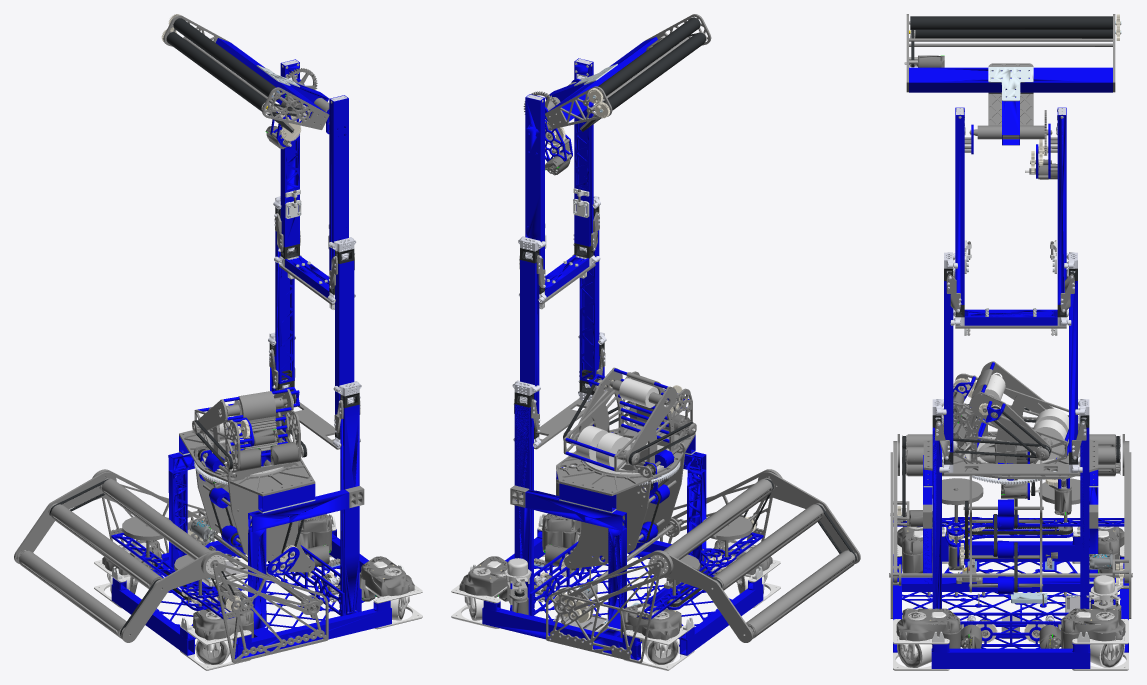
File: hero-poofs-254.glb
3 renders of one model, left to right at view 1: azimuth 30°, elevation 25°; view 2: azimuth 150°, elevation 25°; view 3: azimuth 270°, elevation 25°, orthographic. The views are drawn at different scales.
Parts seen in each view (by area): view 1: frame, intake, turret, stage3, stage2, claw, hood, claw-base; view 2: frame, intake, turret, stage3, stage2, claw, claw-base, hood; view 3: frame, claw, turret, stage3, intake, stage2, claw-base, hood, pad.
Part boxes in pixels (left/top/right/bottom): frame: left=94, top=356, right=422, bottom=670; intake: left=14, top=469, right=328, bottom=663; turret: left=179, top=386, right=315, bottom=513; stage3: left=273, top=59, right=356, bottom=309; stage2: left=268, top=231, right=361, bottom=449; claw: left=161, top=14, right=329, bottom=129; hood: left=198, top=391, right=277, bottom=451; claw-base: left=265, top=68, right=329, bottom=149; frame: left=451, top=356, right=780, bottom=670; intake: left=546, top=469, right=860, bottom=663; turret: left=556, top=367, right=696, bottom=513; stage3: left=518, top=58, right=600, bottom=309; stage2: left=512, top=230, right=606, bottom=449; claw: left=545, top=14, right=711, bottom=128; claw-base: left=523, top=78, right=580, bottom=175; hood: left=625, top=372, right=677, bottom=464; frame: left=893, top=424, right=1128, bottom=670; claw: left=904, top=14, right=1121, bottom=145; turret: left=923, top=362, right=1098, bottom=515; stage3: left=944, top=107, right=1077, bottom=335; intake: left=889, top=434, right=1132, bottom=618; stage2: left=932, top=281, right=1089, bottom=475; claw-base: left=964, top=110, right=1057, bottom=179; hood: left=966, top=361, right=1053, bottom=436; pad: left=988, top=63, right=1033, bottom=125.
Size of the model in its own units: 1.01 by 1.87 by 0.6816.
